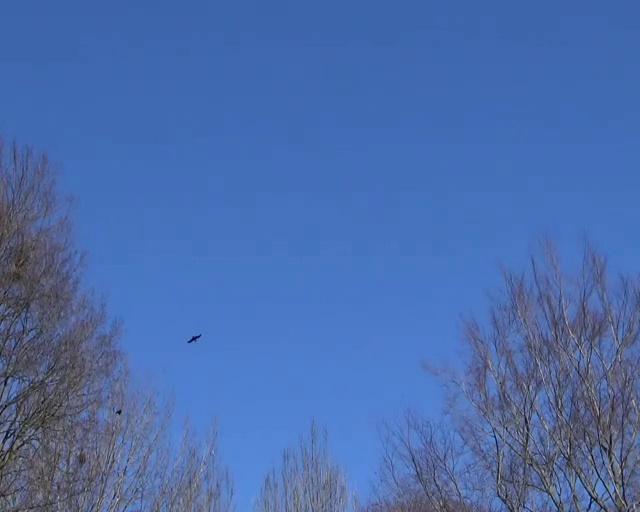BIRD: (187, 333, 202, 343)
